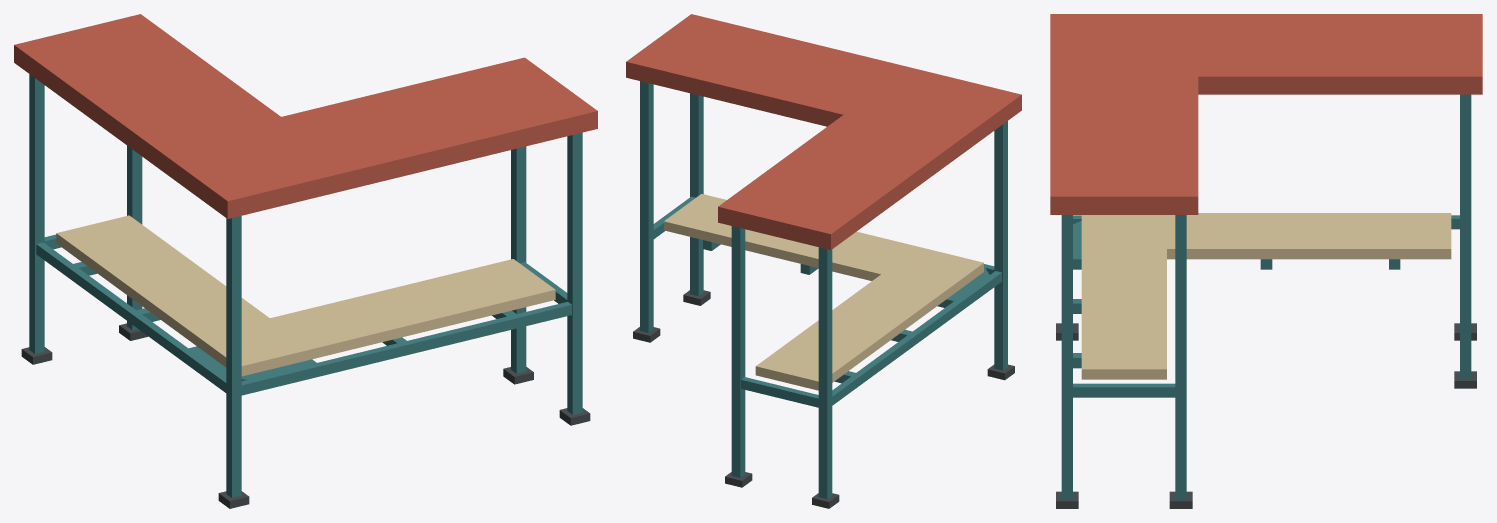
The picture shows the model from 3 angles, left to right: view 1: azimuth 30°, elevation 25°; view 2: azimuth 150°, elevation 25°; view 3: azimuth 270°, elevation 25°; orthographic projection. The views are drawn at different scales.
Visible parts, largest first — view 1: OneContinuousConcaveLCanopy, OneContinuousConcaveLCounter, OuterXArmBearer, SharedOuterCornerPost, FullHeightArmEndPost_1, FullHeightArmEndPost_4, OuterYArmBearer, FullHeightArmEndPost_2, FullHeightArmEndPost_3, WholeChamferedCornerCounterSeat; view 2: OneContinuousConcaveLCanopy, OneContinuousConcaveLCounter, FullHeightArmEndPost_4, FullHeightArmEndPost_3, FullHeightArmEndPost_2, SharedOuterCornerPost, OuterYArmBearer, FullHeightArmEndPost_1, FarYArmEndBearer; view 3: OneContinuousConcaveLCanopy, OneContinuousConcaveLCounter, FullHeightArmEndPost_3, FullHeightArmEndPost_1, FullHeightArmEndPost_2, FarXArmEndBearer.
Part boxes in pixels (x1,y1,x2,y2): OneContinuousConcaveLCanopy: [14, 14, 597, 218]; OneContinuousConcaveLCounter: [56, 215, 555, 376]; OuterXArmBearer: [241, 301, 571, 395]; SharedOuterCornerPost: [226, 216, 241, 497]; FullHeightArmEndPost_1: [567, 132, 582, 414]; FullHeightArmEndPost_4: [29, 74, 44, 353]; OuterYArmBearer: [36, 242, 226, 392]; FullHeightArmEndPost_2: [511, 146, 526, 373]; FullHeightArmEndPost_3: [127, 145, 142, 330]; WholeChamferedCornerCounterSeat: [189, 346, 316, 380]; OneContinuousConcaveLCanopy: [626, 14, 1021, 249]; OneContinuousConcaveLCounter: [664, 194, 983, 390]; FullHeightArmEndPost_4: [818, 247, 832, 499]; FullHeightArmEndPost_3: [731, 226, 745, 477]; FullHeightArmEndPost_2: [640, 81, 653, 332]; SharedOuterCornerPost: [994, 121, 1007, 370]; OuterYArmBearer: [832, 271, 1001, 405]; FullHeightArmEndPost_1: [690, 93, 703, 296]; FarYArmEndBearer: [741, 377, 818, 407]; OneContinuousConcaveLCanopy: [1050, 14, 1482, 214]; OneContinuousConcaveLCounter: [1081, 213, 1451, 379]; FullHeightArmEndPost_3: [1460, 94, 1471, 378]; FullHeightArmEndPost_1: [1061, 215, 1072, 498]; FullHeightArmEndPost_2: [1175, 215, 1186, 498]; FarXArmEndBearer: [1073, 383, 1175, 397].
Bounding box in the file's own units: 3.04 × 2.44 × 3.04.
